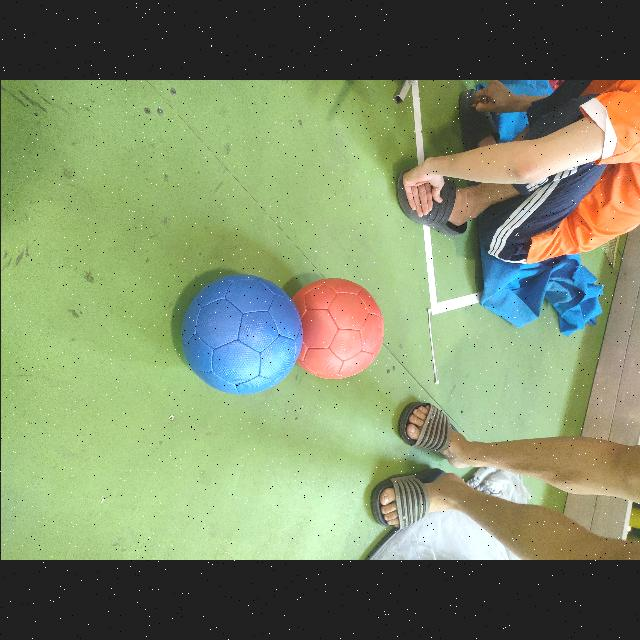B: (181, 274, 302, 395)
R: (292, 278, 383, 379)
